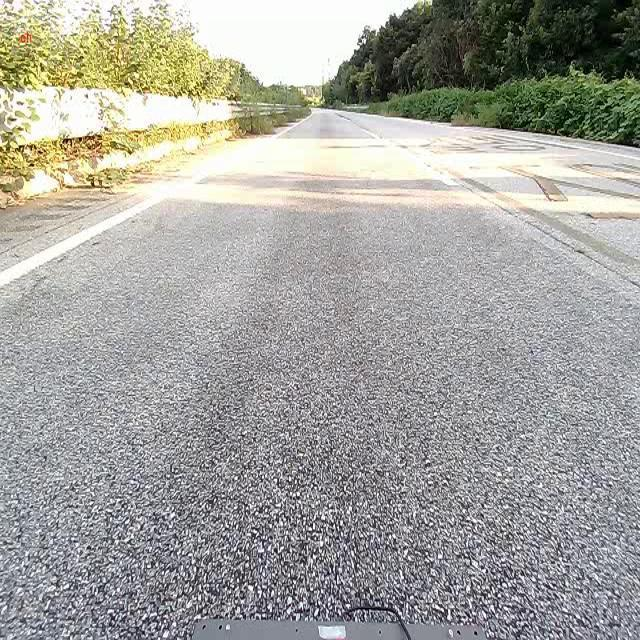Lane: (0, 180, 173, 288), (0, 193, 166, 288)
